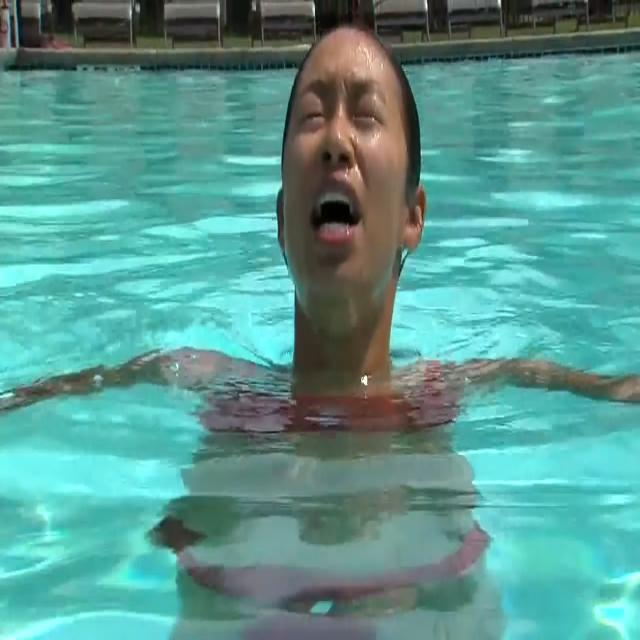Drowning: (243, 12, 451, 422)
